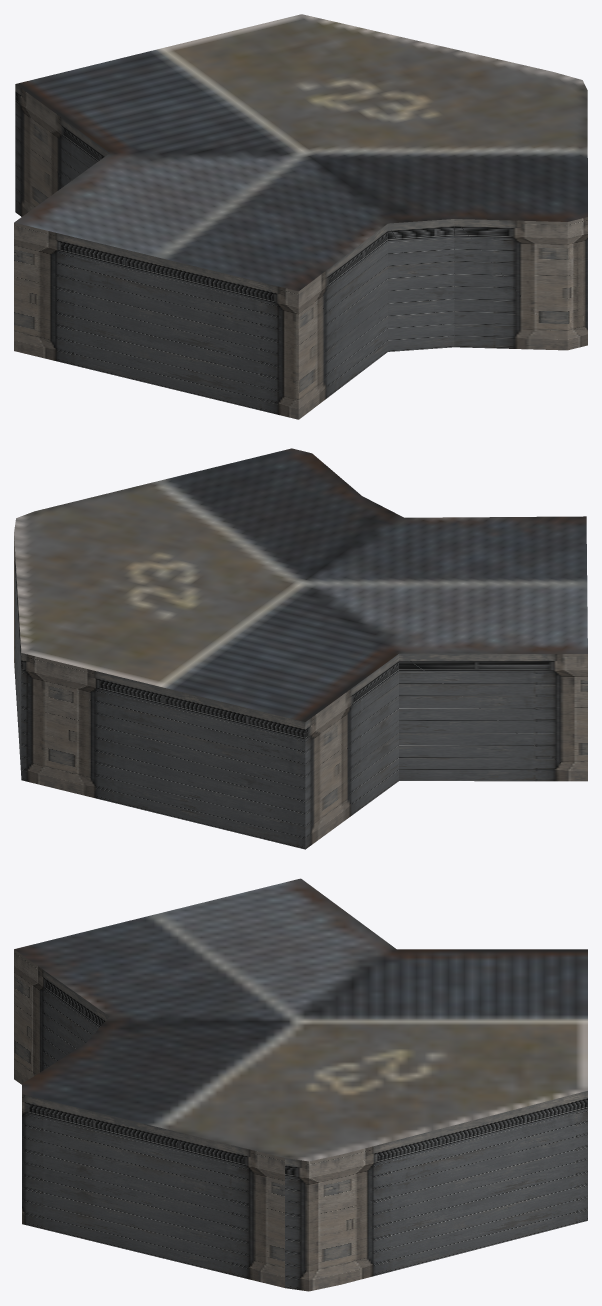
Rendered from hangar_light_23.glb.
The picture shows the model from 3 angles, top to bottom: view 1: azimuth 30°, elevation 25°; view 2: azimuth 150°, elevation 25°; view 3: azimuth 270°, elevation 25°; orthographic projection. The views are drawn at different scales.
Parts seen in each view (by area): view 1: buildings/saxarba/hangar_light/hangar_light_23; view 2: buildings/saxarba/hangar_light/hangar_light_23; view 3: buildings/saxarba/hangar_light/hangar_light_23.
Part boxes in pixels (x1=…): buildings/saxarba/hangar_light/hangar_light_23: x1=14, y1=14, x2=587, y2=419; buildings/saxarba/hangar_light/hangar_light_23: x1=14, y1=448, x2=587, y2=849; buildings/saxarba/hangar_light/hangar_light_23: x1=14, y1=878, x2=587, y2=1291.
Size of the model in its own units: 84 by 18 by 72.
